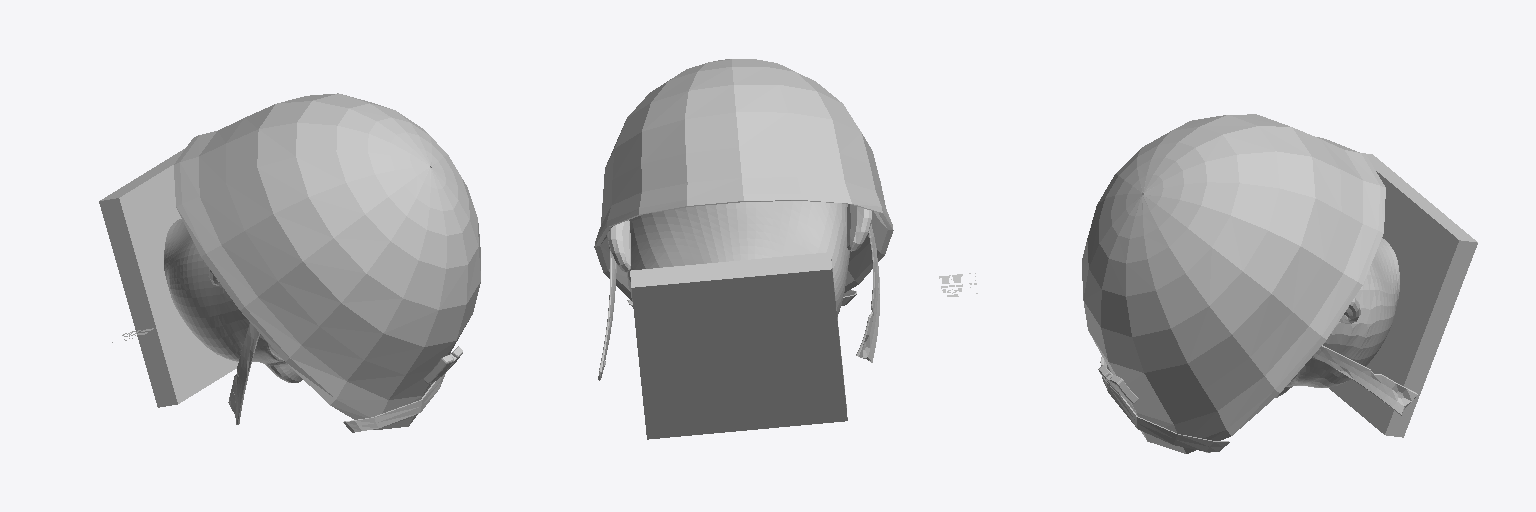
3 views of the same model, side by side, from view 1: azimuth 30°, elevation 25°; view 2: azimuth 150°, elevation 25°; view 3: azimuth 270°, elevation 25° (orthographic).
Parts seen in each view (by area): view 1: Helmet, Neck_Animation, Anibal, Helmet_tape, Tape_right; view 2: Helmet, Neck_Animation, Anibal, Tape_right, Ear_right, Ear_left, Tape_Left; view 3: Helmet, Neck_Animation, Anibal, Tape_Left, Helmet_tape.
Boxes of the visible parts, x1=… form: Helmet: x1=174, y1=93, x2=480, y2=429; Neck_Animation: x1=99, y1=148, x2=238, y2=407; Anibal: x1=164, y1=167, x2=430, y2=382; Helmet_tape: x1=343, y1=353, x2=450, y2=432; Tape_right: x1=228, y1=323, x2=259, y2=424; Helmet: x1=594, y1=59, x2=893, y2=300; Neck_Animation: x1=630, y1=252, x2=847, y2=439; Anibal: x1=626, y1=201, x2=849, y2=316; Tape_right: x1=856, y1=224, x2=879, y2=362; Ear_right: x1=847, y1=204, x2=871, y2=251; Ear_left: x1=607, y1=220, x2=630, y2=271; Tape_Left: x1=598, y1=247, x2=616, y2=380; Helmet: x1=1082, y1=114, x2=1385, y2=453; Neck_Animation: x1=1329, y1=153, x2=1477, y2=437; Anibal: x1=1276, y1=238, x2=1399, y2=397; Tape_Left: x1=1312, y1=345, x2=1417, y2=415; Helmet_tape: x1=1100, y1=357, x2=1229, y2=452.
Bounding box in the file's own units: 130 × 107 × 126.